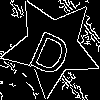D: (27, 22, 78, 78)
